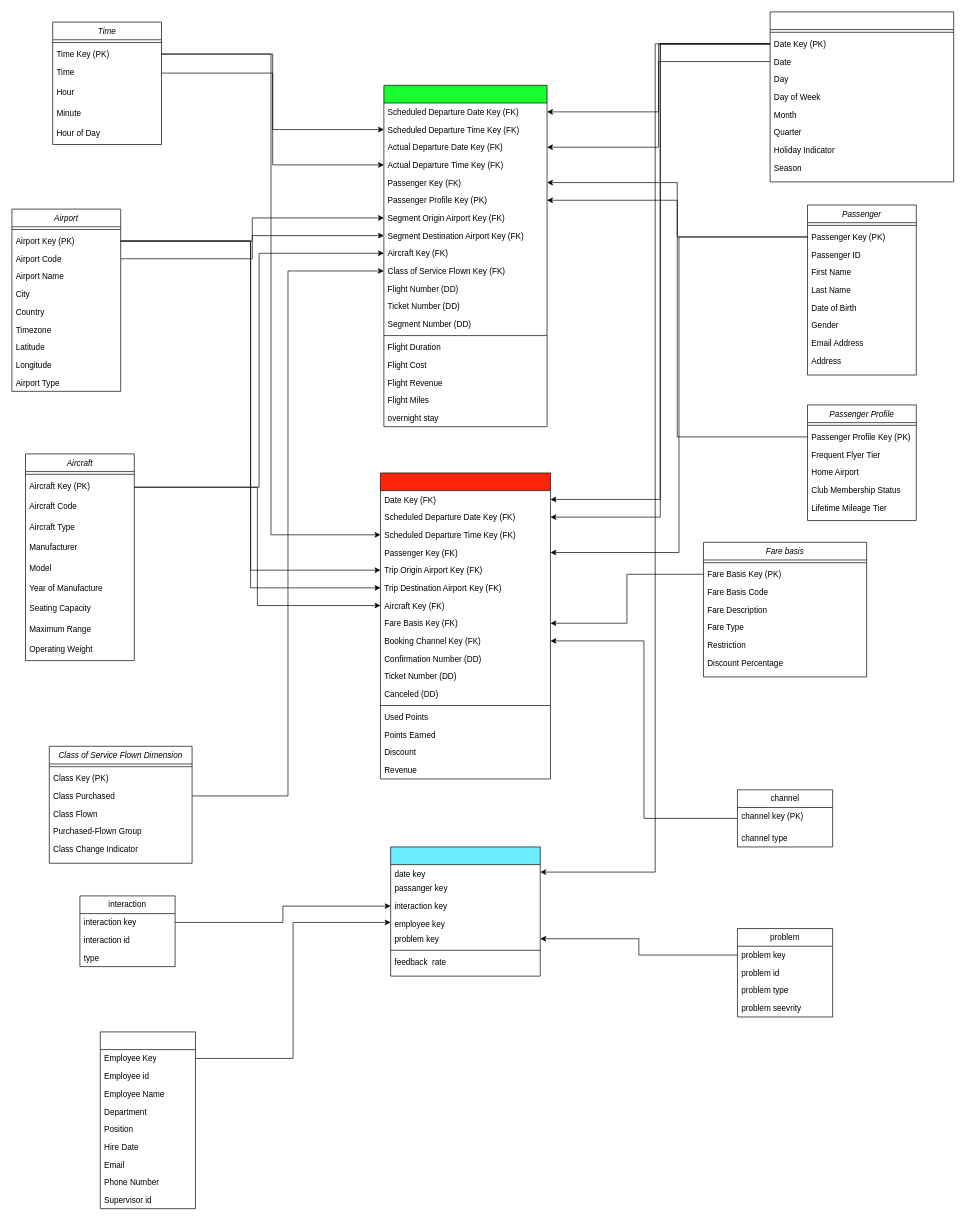
Some shapes in this 966 by 1223 pixel diagram are drawn without their labels. The box of each missing label's shape, as (x1, y1, x2, y2) in pixels:
Customer Care: (390, 846, 540, 976)
Customer Service: (100, 1031, 196, 1209)
Date Dimension: (769, 11, 954, 182)
Reservation Fact: (380, 472, 550, 779)
Segment Flight Activity Fact: (383, 85, 547, 427)
